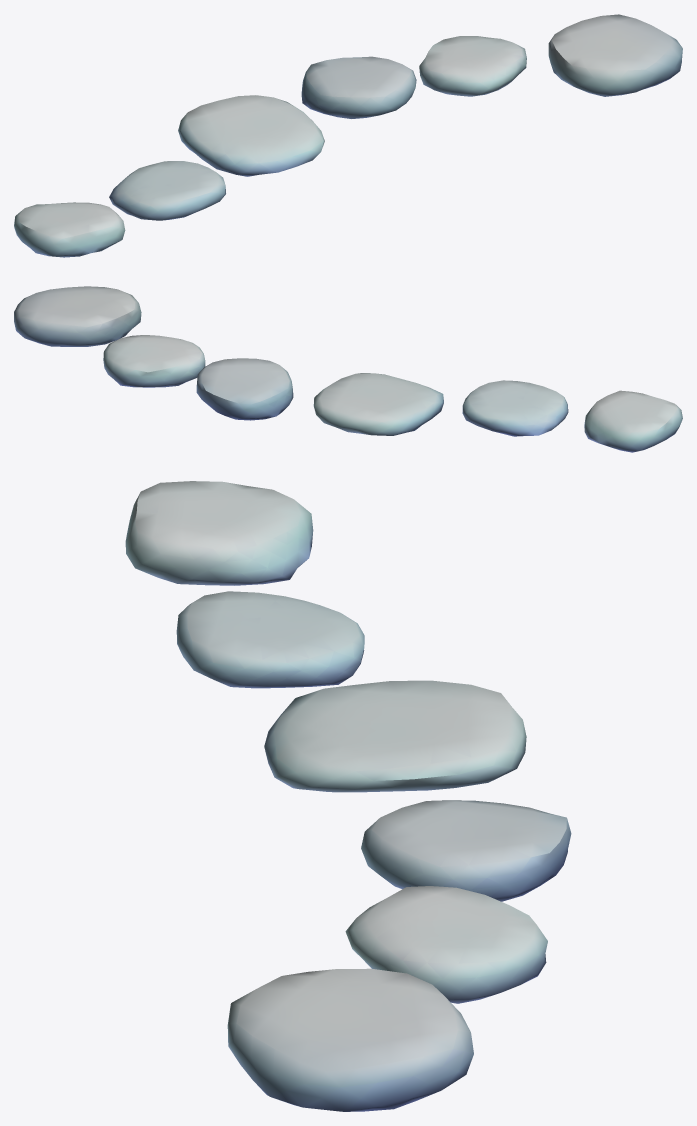
File: glass_misc_stepping_stones_a.glb
The picture shows the model from 3 angles, top to bottom: view 1: azimuth 30°, elevation 25°; view 2: azimuth 150°, elevation 25°; view 3: azimuth 270°, elevation 25°; orthographic projection. The views are drawn at different scales.
Visible parts, largest first — view 1: glass_misc_stepping_stones_a; view 2: glass_misc_stepping_stones_a; view 3: glass_misc_stepping_stones_a.
Boxes of the visible parts, box(x1,y1,x2,y2) form: glass_misc_stepping_stones_a: box(14, 14, 682, 257); glass_misc_stepping_stones_a: box(14, 286, 682, 452); glass_misc_stepping_stones_a: box(125, 481, 571, 1111).
Bounding box in the file's own units: 9.96 × 0.4406 × 3.12.
